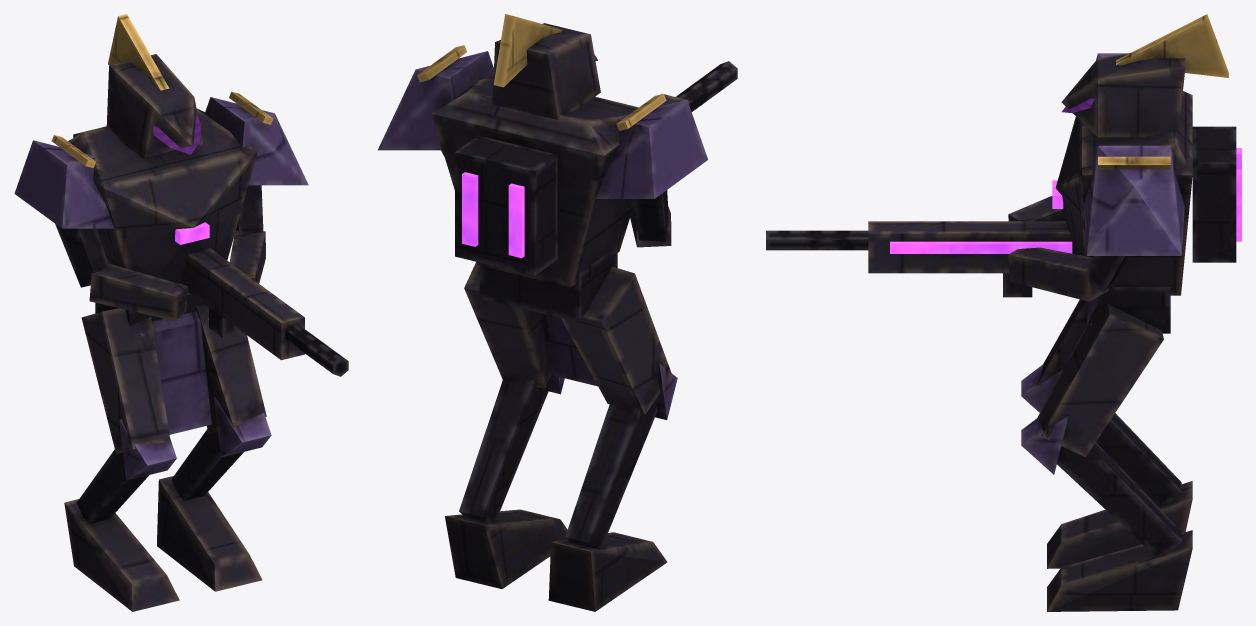
Rendered from e_trooper.glb.
3 renders of one model, left to right at view 1: azimuth 30°, elevation 25°; view 2: azimuth 150°, elevation 25°; view 3: azimuth 270°, elevation 25°, orthographic. The views are drawn at different scales.
Visible parts, largest first — view 1: e_trooper; view 2: e_trooper; view 3: e_trooper.
Part boxes in pixels (bbox=[...]): e_trooper: bbox=[14, 14, 348, 611]; e_trooper: bbox=[378, 14, 737, 611]; e_trooper: bbox=[766, 14, 1241, 611].
Size of the model in its own units: 0.84 by 1.7 by 1.3.
Materials: 1 (1 with a texture image).
